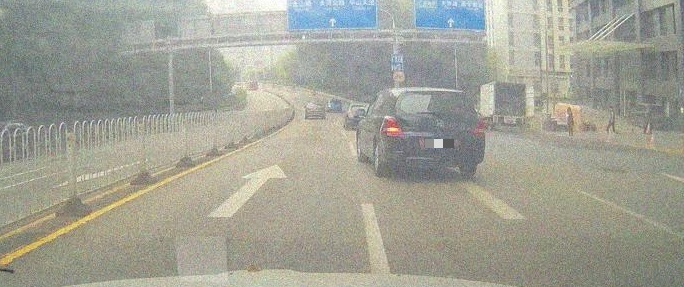L_light: (382, 116, 405, 138)
R_light: (471, 118, 485, 138)
T_light: (424, 90, 446, 94)
day-left: (378, 89, 487, 179)
plate_1: (425, 139, 454, 148)
